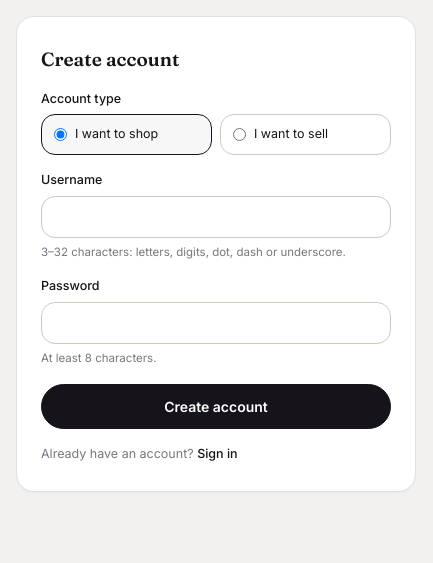
Scenario: a valid form clears old errors; the server's list of errors is shown in full
The width and height of the screenshot is (433, 563).
Type "sam" into the field labelled "Username" at (216, 217), box [41, 196, 391, 238]
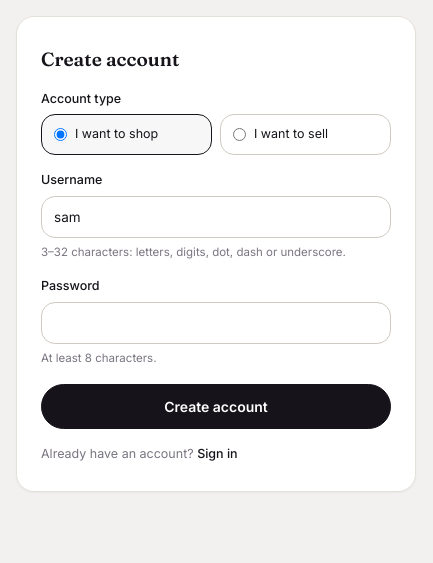
Type "long-enough-1" into the password field labelled "Password" at (216, 323), box [41, 302, 391, 344]
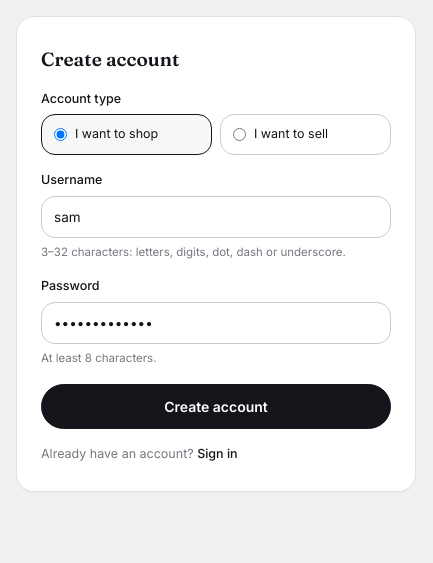
Click the button "Create account" at (216, 406), box [41, 384, 391, 428]
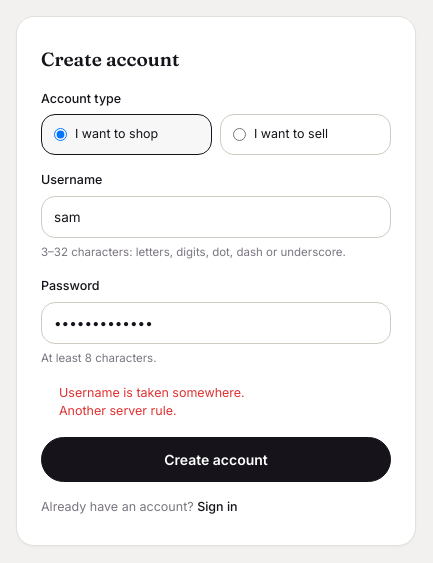
expect the list items read "Username is taken somewhere.", "Another server rule.", in this order: met, box [59, 384, 245, 400]; [59, 403, 177, 418]
